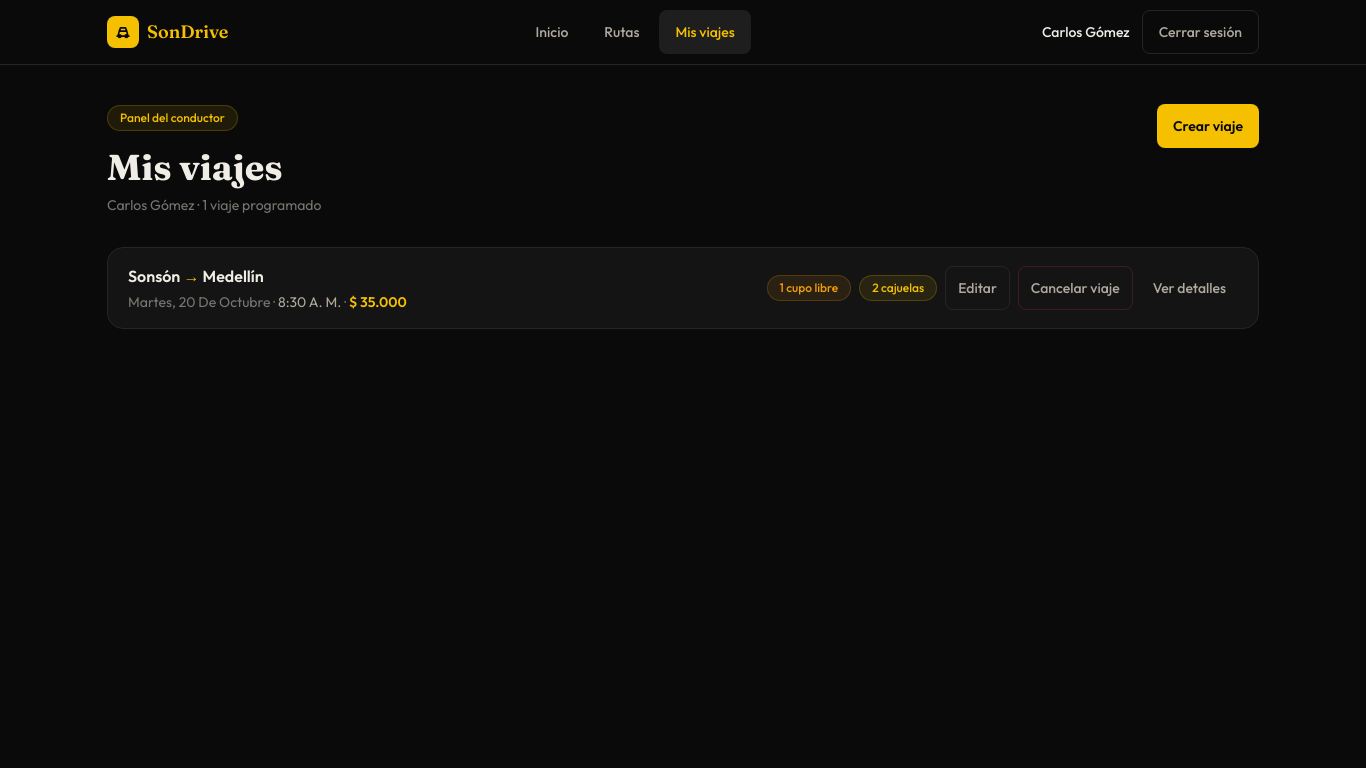
Test case: Detalles del viaje › sin pasajeros muestra el texto vacío y si falla el detalle ofrece reintentar
The width and height of the screenshot is (1366, 768).
Step 1. Click the button "Ver detalles" → (1189, 288), box [1141,266,1238,310]
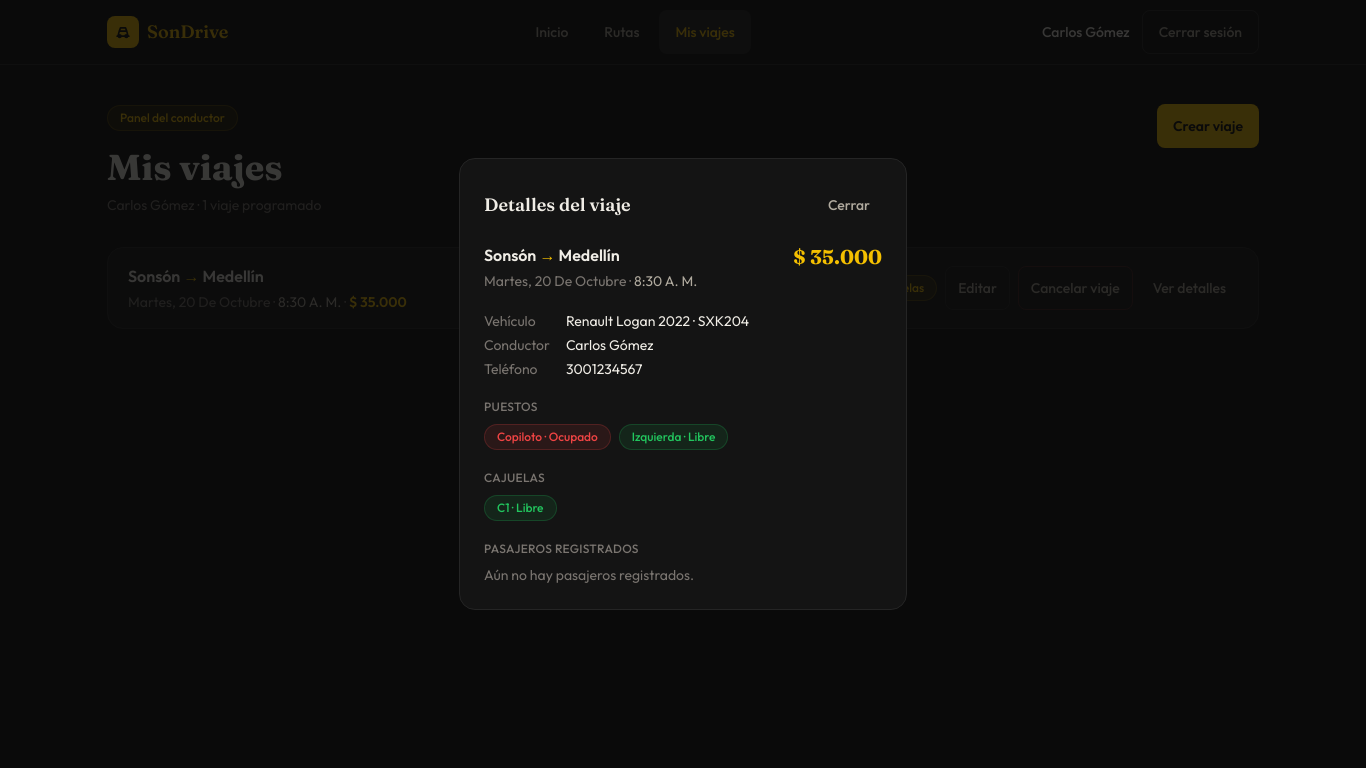
Check: the text "Aún no hay pasajeros registrados." is shown, box [484,566,694,584]
Step 2. Click the button "Cerrar" → (849, 205), box [816,183,882,227]
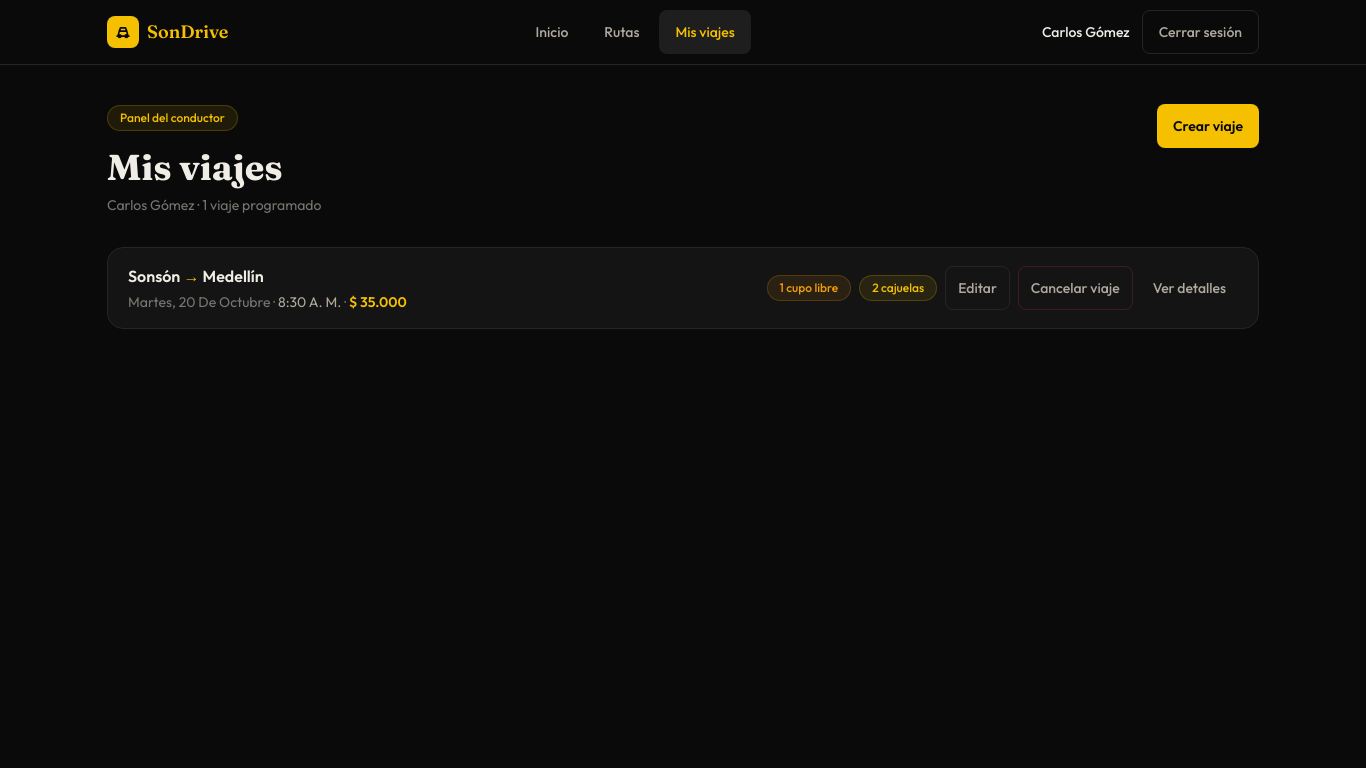
Step 3. Click the button "Ver detalles" → (1189, 288), box [1141,266,1238,310]
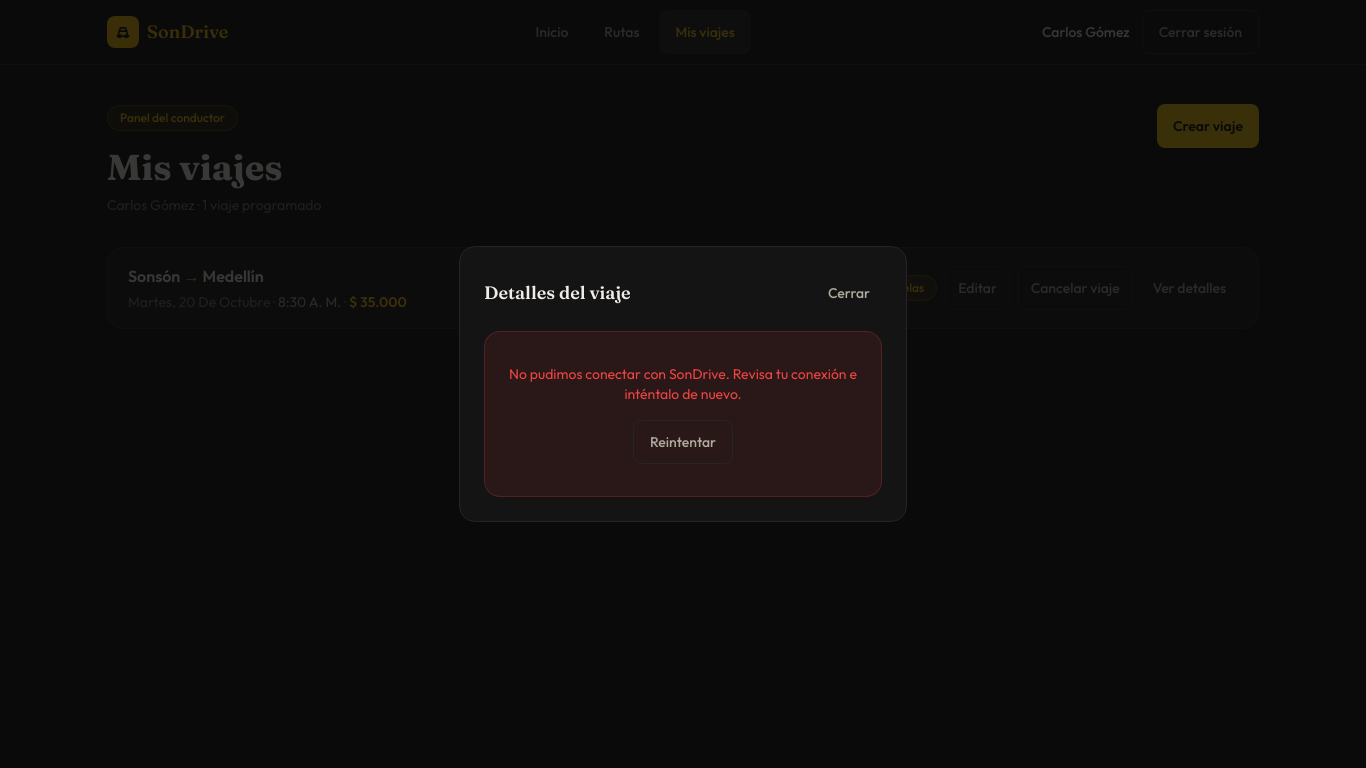
Check: the button "Reintentar" is shown, box [633,420,733,464]
